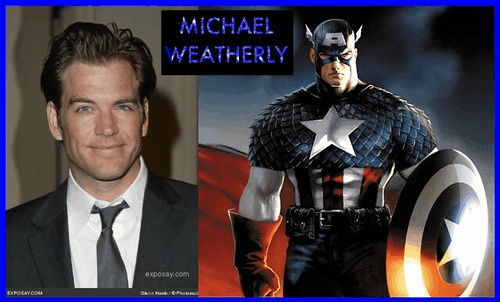bad: (56, 86, 145, 176), (314, 46, 357, 89)
